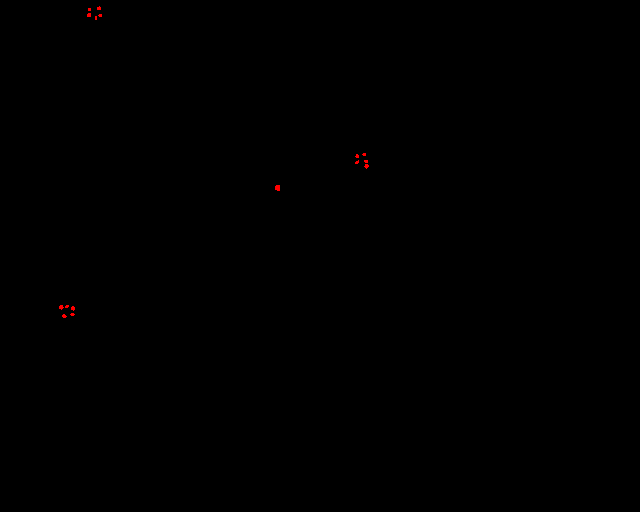Target: (275, 185, 280, 191), (364, 164, 369, 169), (59, 305, 64, 310), (71, 306, 75, 311), (62, 314, 67, 318), (97, 6, 101, 10), (87, 13, 91, 17), (355, 154, 359, 158), (355, 160, 359, 164), (70, 313, 75, 316), (98, 14, 102, 17), (362, 153, 366, 156), (364, 160, 368, 163), (65, 305, 69, 308), (88, 8, 91, 11), (95, 16, 97, 20)
